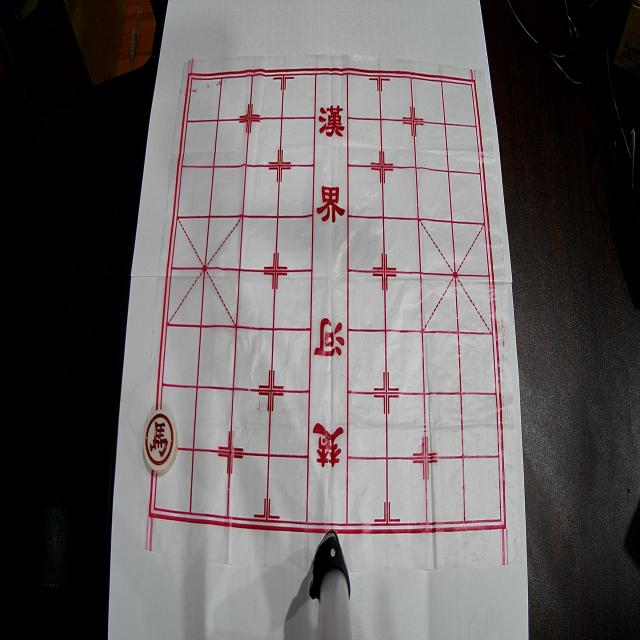red-horse: (143, 410, 178, 474)
